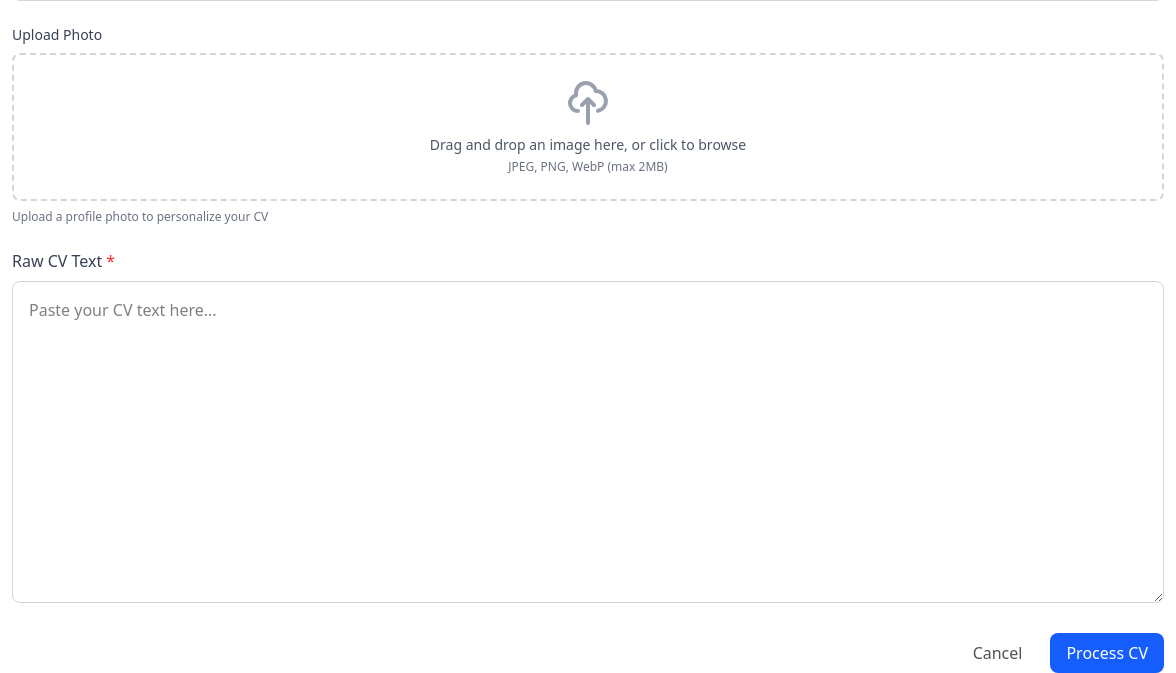
CVIngestionForm › shows validation errors for empty fields
The image size is (1176, 673).
(page scrolled)
Click the button "Process CV". click: (1107, 653)
box: [1050,633,1164,672]
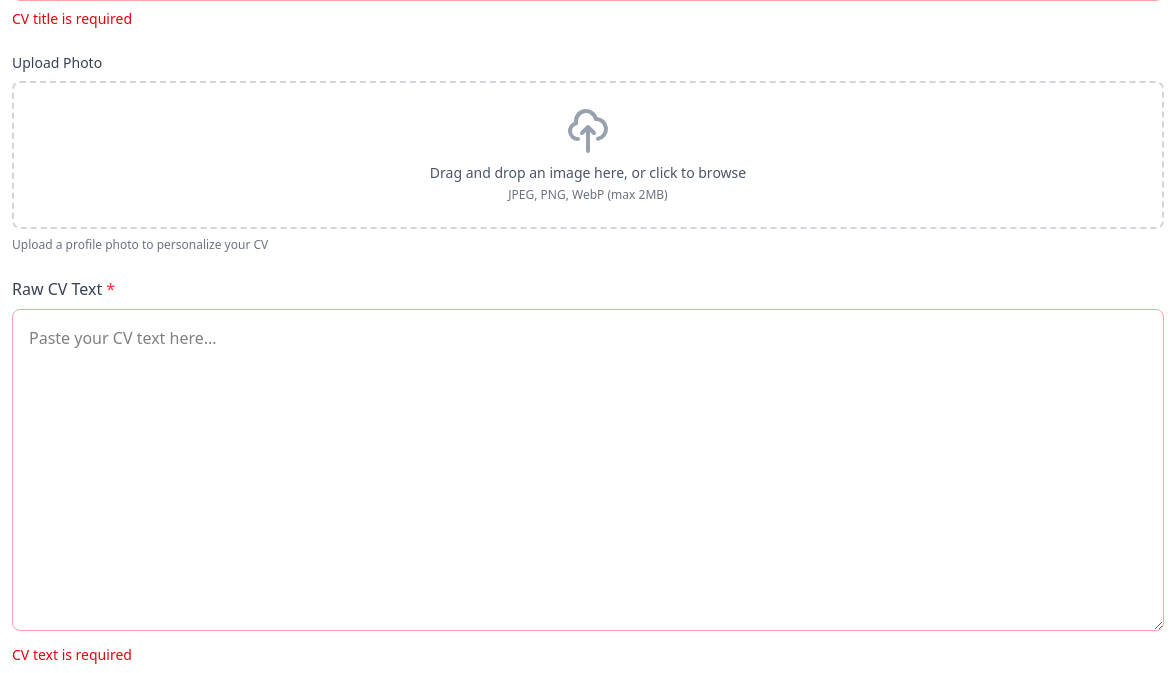
Check: the text "CV title is required" is shown, box [12,9,132,28]
Check: the text "CV text is required" is shown, box [12,645,132,664]
